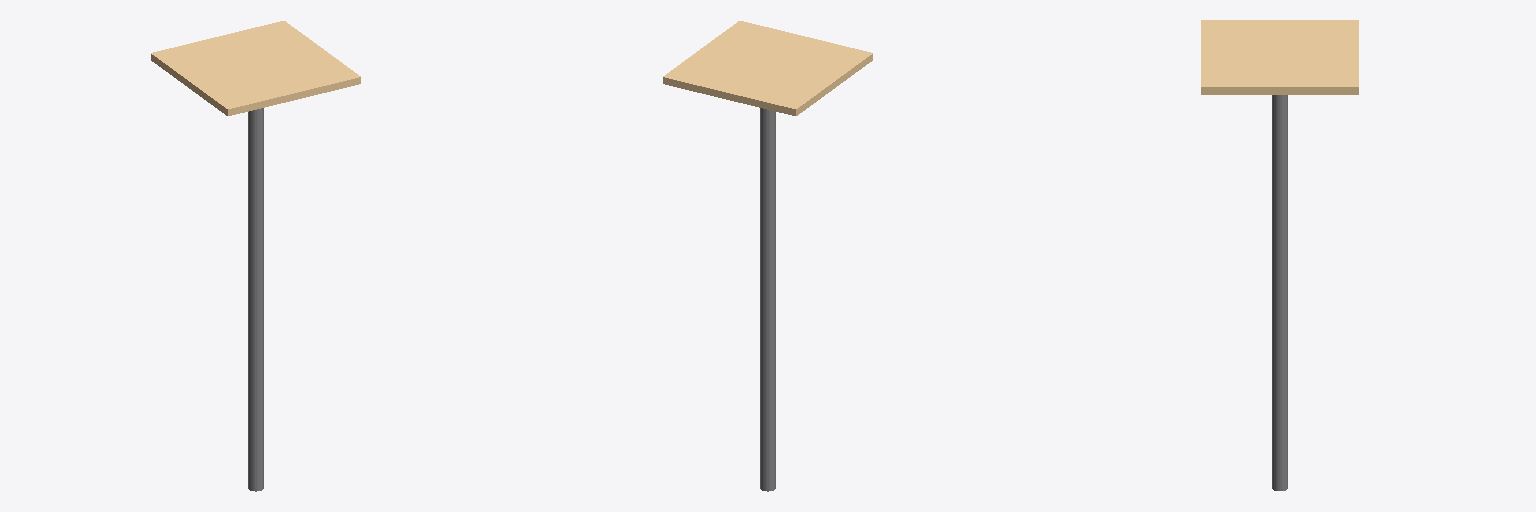
URDF robot description (box):
<?xml version="1.0" ?>
<robot name="box">

  <material name="panda_white">
    <color rgba="1. 0.87 0.68 1."/>
  </material>

  <material name="metal">
    <color rgba="0.6 0.6 0.6 1."/>
  </material>

  <link name="link1">
    <inertial>
      <origin rpy="0 0 0" xyz="0 0 0"/>
       <mass value=".0"/>
       <inertia ixx="0" ixy="0" ixz="0" iyy="0" iyz="0" izz="0"/>
    </inertial>

    <visual>
      <origin rpy="0 0 0" xyz="0 0 0.3"/>
      <geometry>
        <box size="0.10 0.10 0.005"/>
      </geometry>
      <material name="panda_white"/>
    </visual>
  </link>

  <link name="link2">
    <inertial>
      <origin rpy="0 0 0" xyz="0 0 0"/>
       <mass value=".0"/>
       <inertia ixx="0" ixy="0" ixz="0" iyy="0" iyz="0" izz="0"/>
    </inertial>

    <visual>
      <origin rpy="0 0 0" xyz="0 0 0.15"/>
      <geometry>
        <cylinder radius="0.005" length="0.3"/>
      </geometry>
      <material name="metal"/>
    </visual>
  </link>

  <joint name="fixed_joint" type="fixed">
    <parent link="link1"/>
    <child link="link2"/>
    <origin xyz="0 0 0" rpy="0 0 0"/>
  </joint>

</robot>

--- What the picture shows (computed from the rendered views, not written in the file) ---
Views: 3 orthographic renders of the robot side by side, from view 1: azimuth 30°, elevation 25°; view 2: azimuth 150°, elevation 25°; view 3: azimuth 270°, elevation 25°.
Robot: box — 2 links, 1 joints (1 fixed); root link link1; default pose: every joint at zero.
Links seen in each view (by area): view 1: link1, link2; view 2: link1, link2; view 3: link1, link2.
Boxes of the visible links, x1,y1,x2,y2 form: link1: [151, 21, 360, 115]; link2: [248, 108, 263, 491]; link1: [663, 21, 872, 115]; link2: [760, 108, 775, 491]; link1: [1201, 20, 1358, 94]; link2: [1272, 95, 1287, 490].
Bounding box of the posed robot: 0.1 × 0.1 × 0.3025 m (x, y, z).
Geometry: primitives only (box / cylinder / sphere), no mesh files.